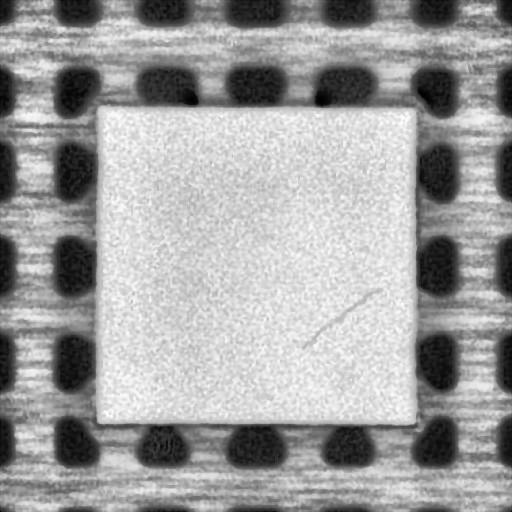DIE_CRACK: (301, 285, 379, 351)
